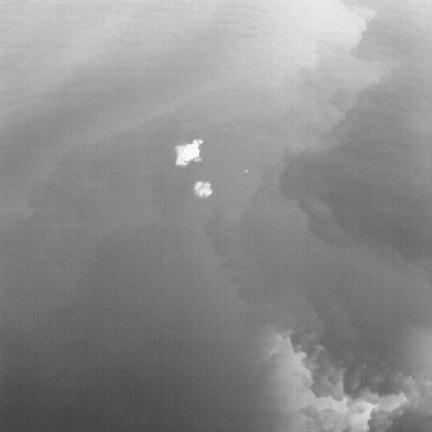flukeprints: (175, 139, 202, 165), (194, 181, 212, 197)
